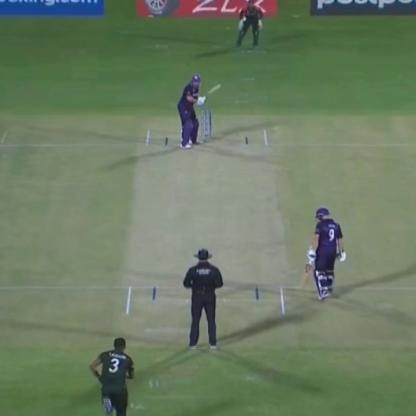bat: (197, 79, 230, 107), (295, 258, 318, 296)
pitch: (119, 122, 294, 325)
